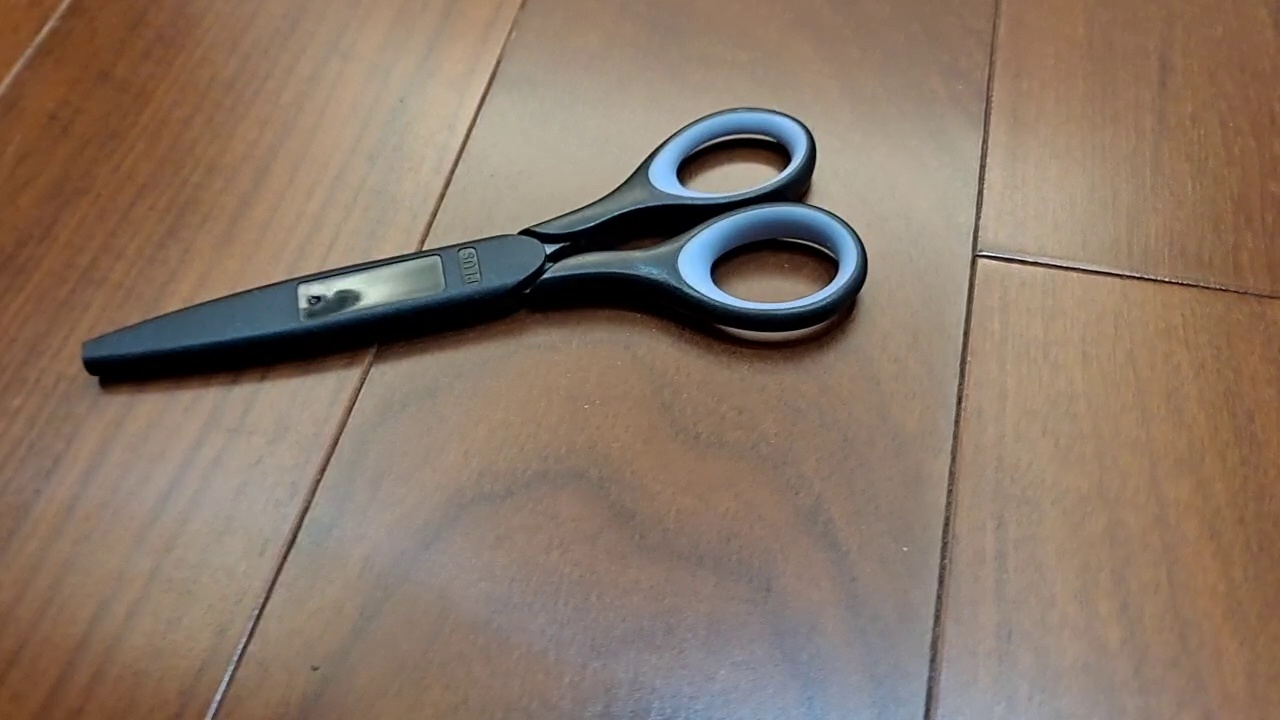scissors: (80, 105, 869, 392)
